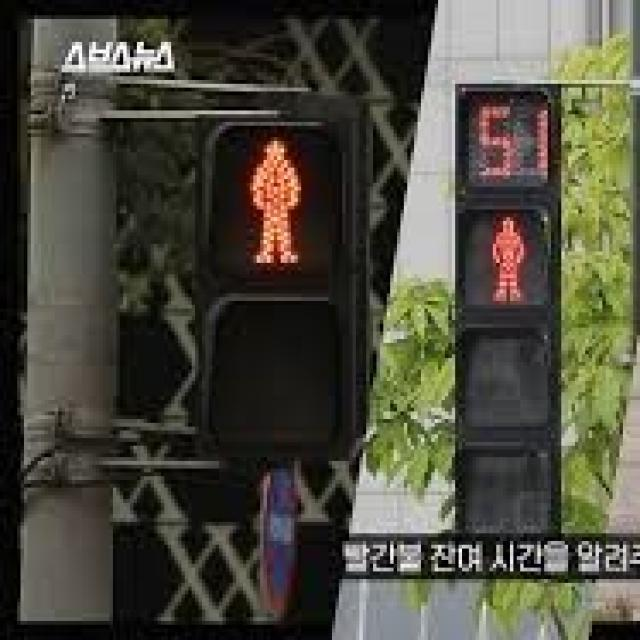Not go: (195, 105, 376, 470), (152, 103, 373, 310), (454, 185, 551, 545), (453, 190, 554, 300)
